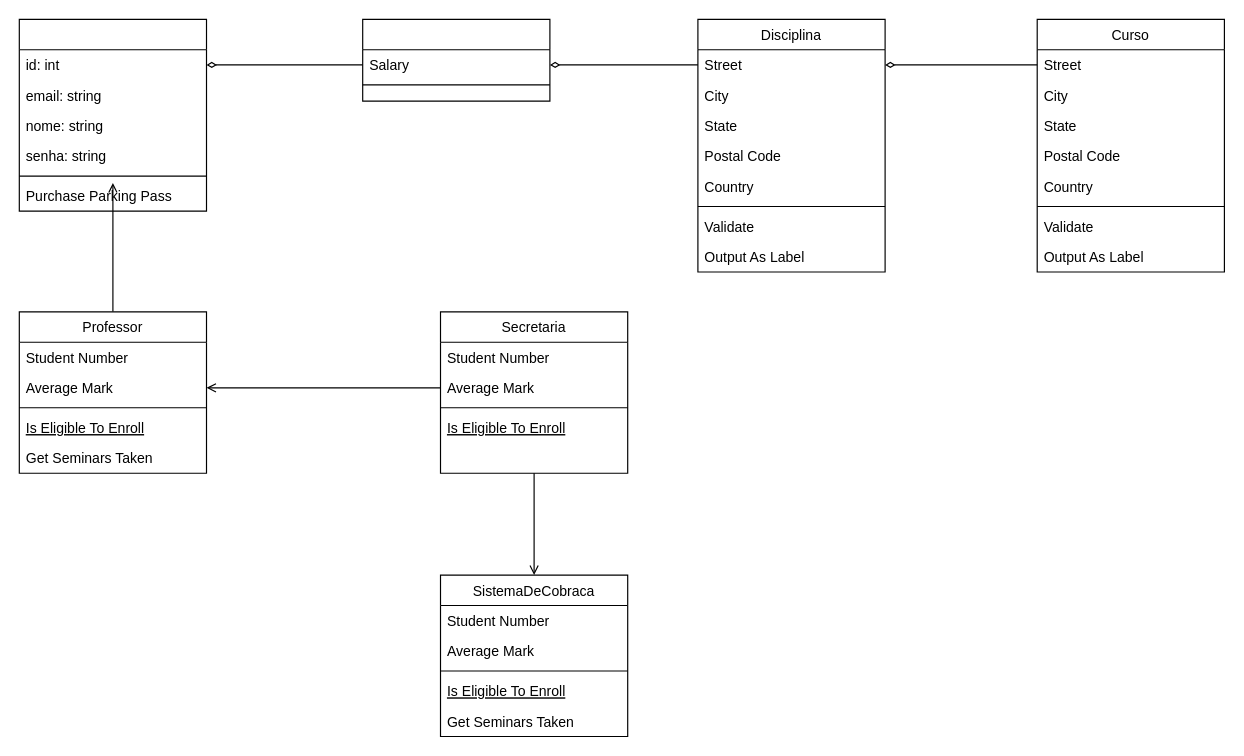
Some shapes in this 1244 by 756 pixel diagram are drawn without their labels. Each missing label, with the box of its shape:
Aluno: (18, 18, 207, 211)
Matricula: (362, 18, 550, 101)
